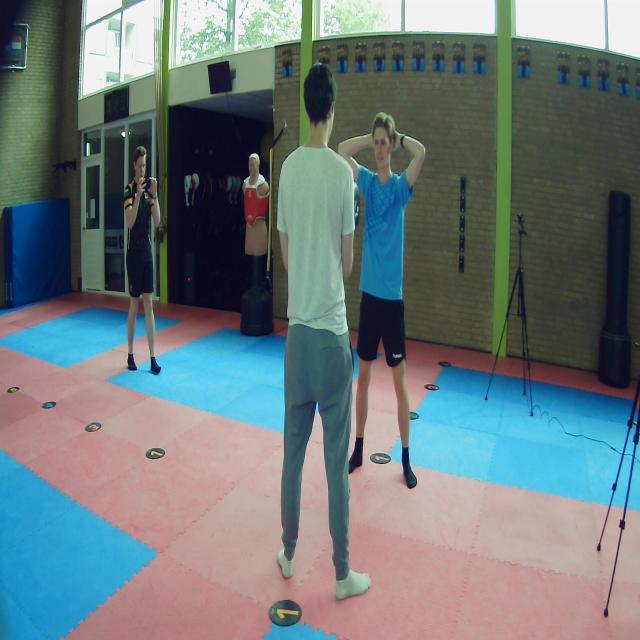paddle: (352, 179, 360, 232)
